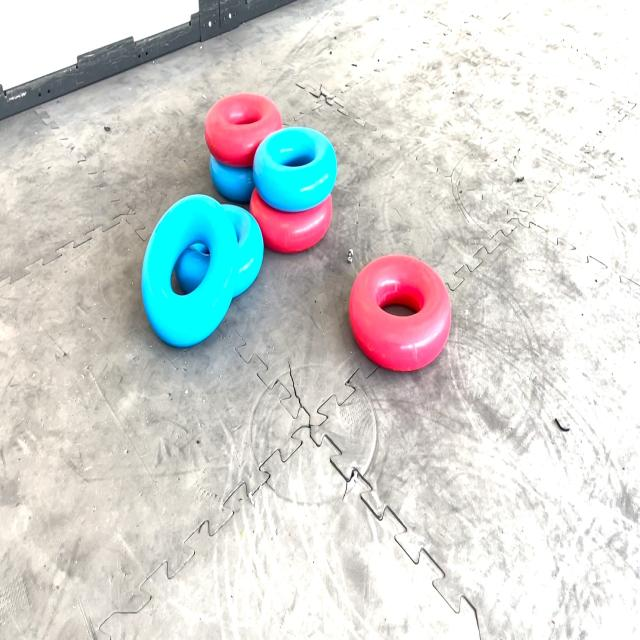Blue-Ring: (141, 196, 236, 347), (252, 127, 338, 211), (221, 204, 264, 297), (210, 156, 255, 202)
Red-Ring: (349, 256, 451, 371), (205, 93, 282, 167), (250, 189, 332, 253)
